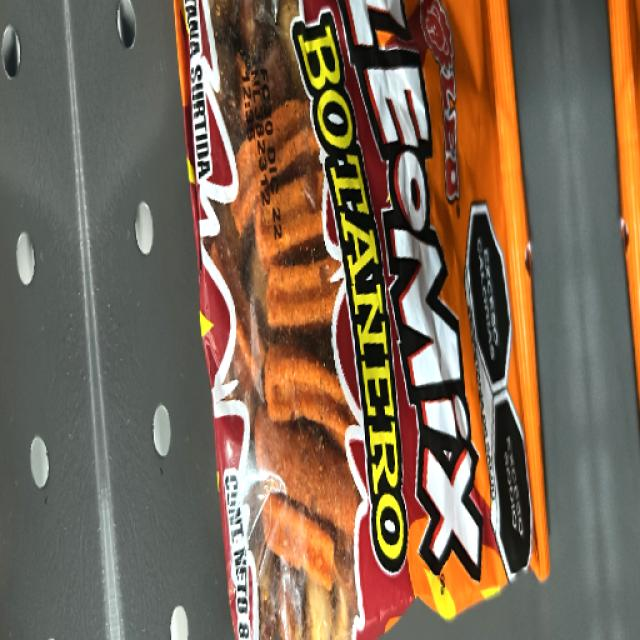leoMix: (184, 8, 554, 624)
